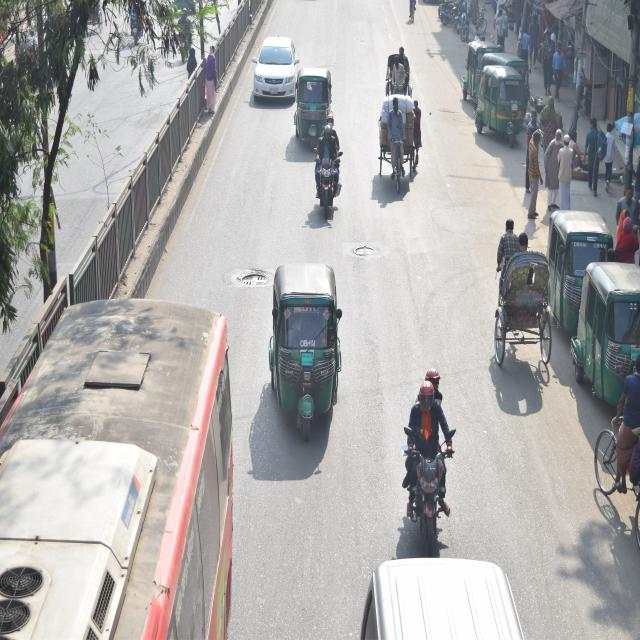bus: (0, 292, 248, 640)
car: (250, 31, 300, 106)
motorbike: (398, 412, 458, 555), (304, 145, 342, 220)
